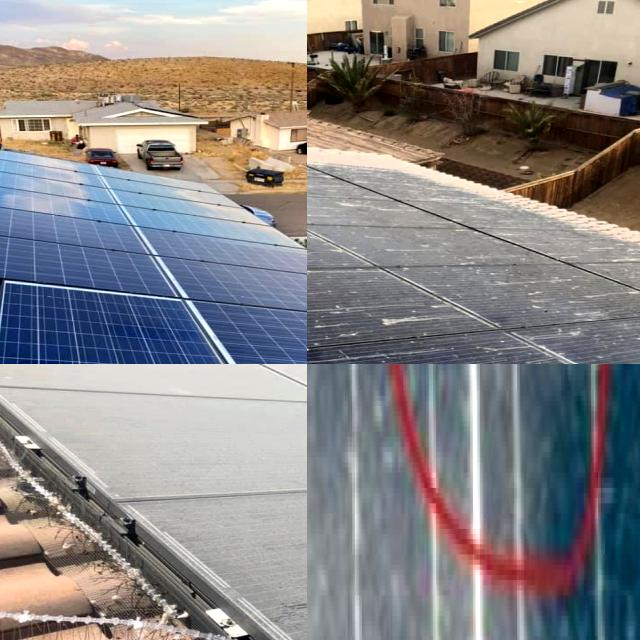bird: (307, 262, 360, 351), (362, 296, 393, 347)
dust: (450, 246, 634, 351), (93, 414, 307, 488), (0, 364, 251, 398), (307, 179, 416, 241), (233, 244, 307, 326), (222, 517, 307, 587)
shadow: (462, 364, 589, 536)
